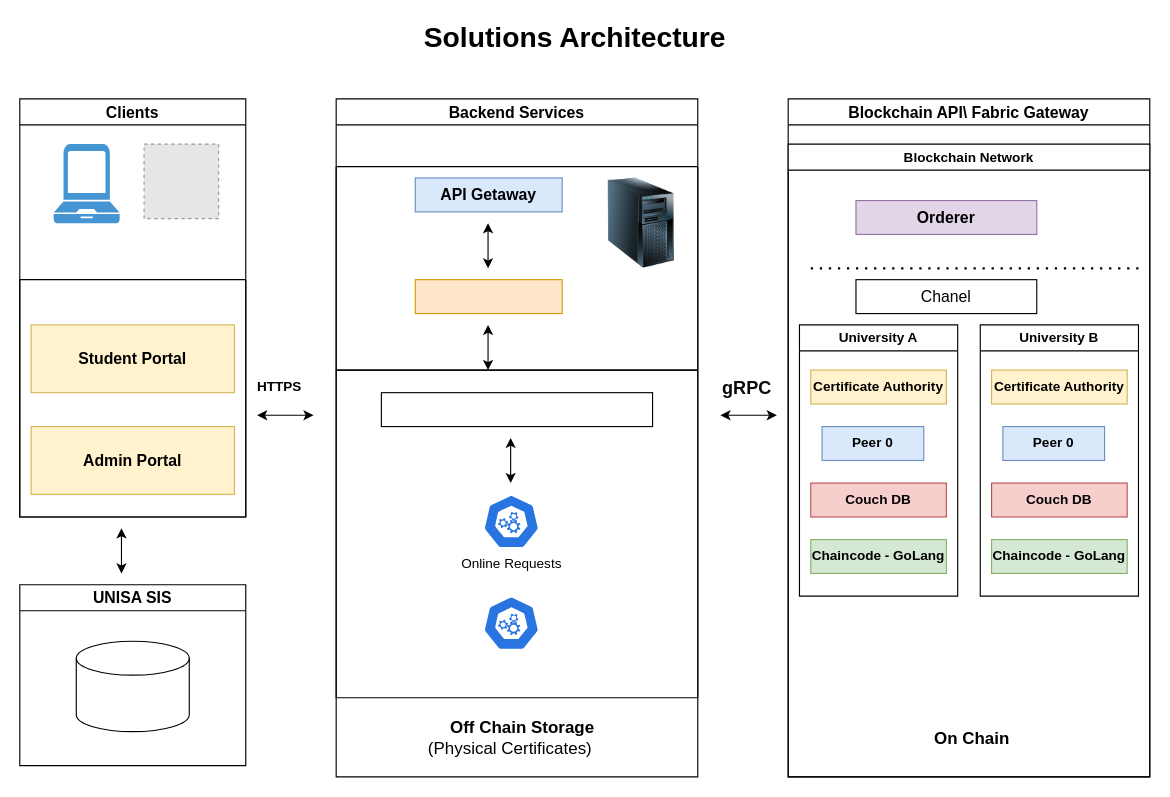
Some shapes in this 1170 by 797 pixel diagram are drawn without their labels. Grey dashed boxes stand in for pictures. Here are the shapes that lost their labels. From the top down, the centre of each, then its label:
At pixel 488 296: "Proxy".
At pixel 516 409: "Application API - .net core services".
At pixel 511 622: "Bulk Requests".
At pixel 132 686: "Graduation Information".
